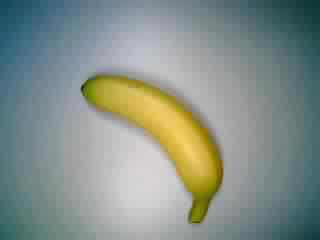banana: (78, 72, 225, 227)
